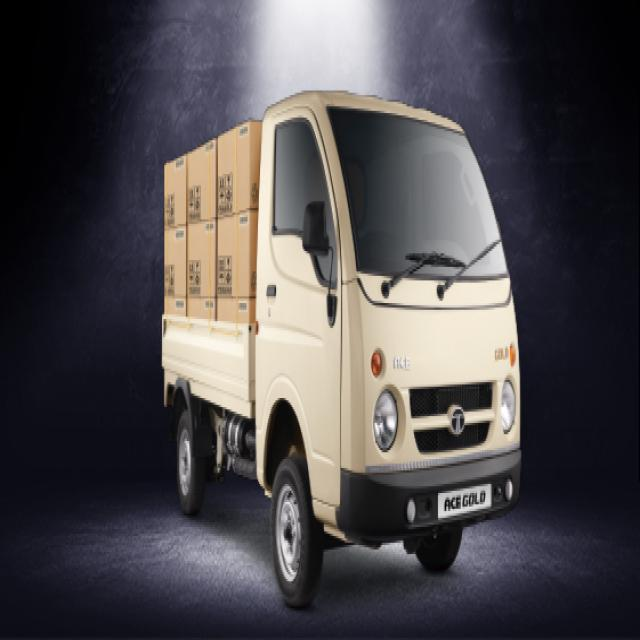truck: (157, 86, 526, 607)
